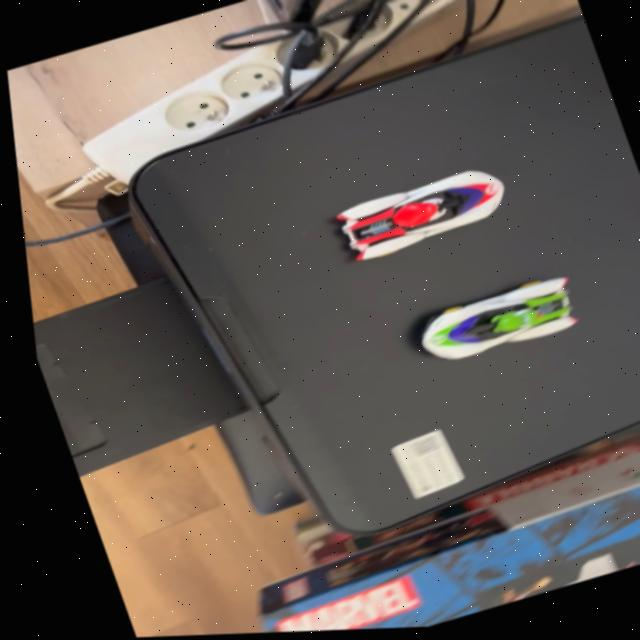mario: (309, 159, 530, 280)
yoshi: (390, 262, 601, 382)
